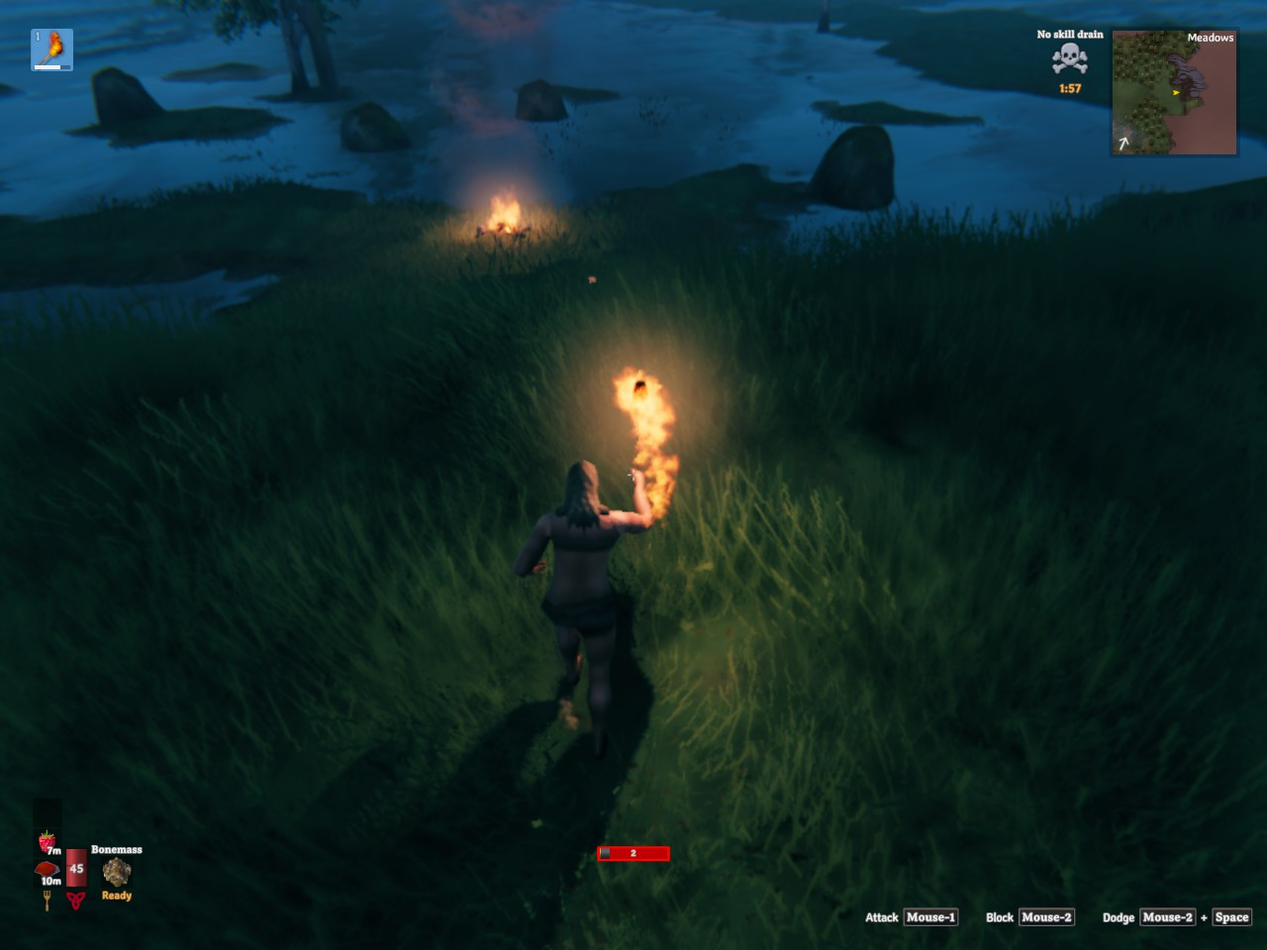Torch: (634, 379, 646, 397)
